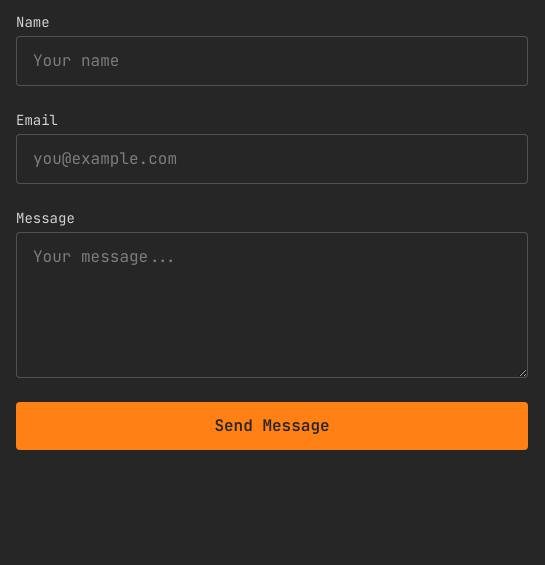
ContactForm › error response › displays network error message when fetch throws
This screenshot has width=545, height=565.
Step 1. Type "John Doe" into the field labelled "Name" → (272, 61), box [16,36,528,86]
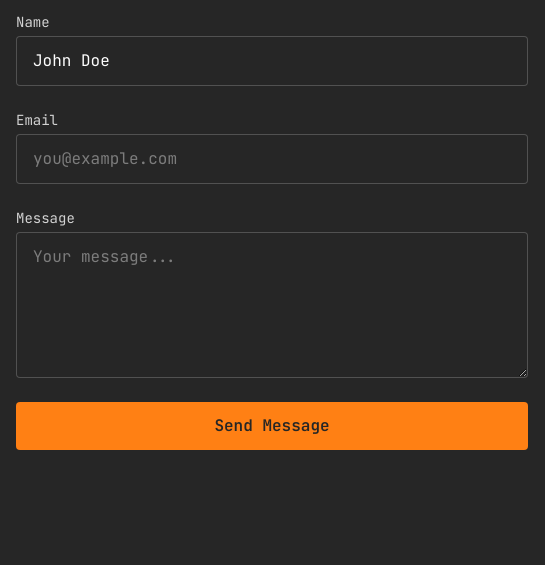
Step 2. Type "john@example.com" into the field labelled "Email" → (272, 159), box [16,134,528,184]
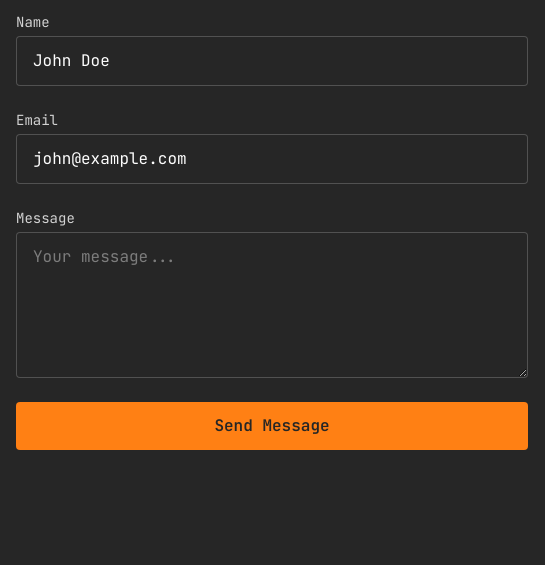
Step 3. Type "Hello, this is a test message." into the text box labelled "Message" → (272, 305), box [16,232,528,378]
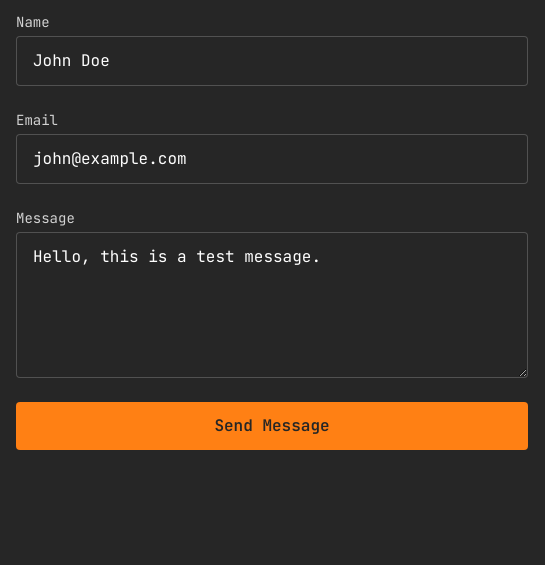
Step 4. Click the button "Send Message" → click(272, 426), box [16,402,528,450]
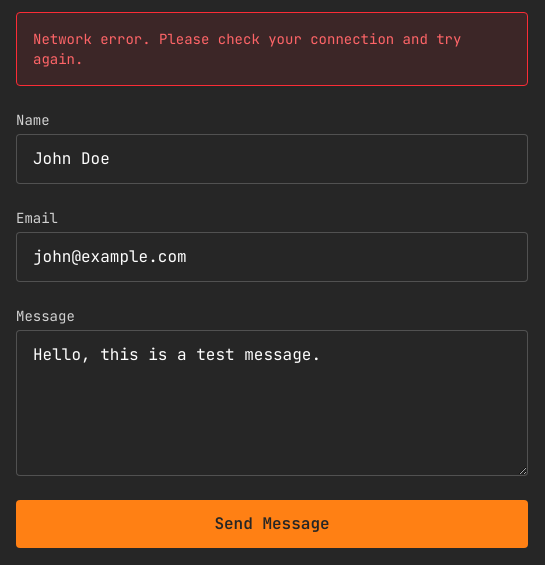
Expected: the text "Network error. Please check your connection and try again." is shown, [16,12,528,86]
